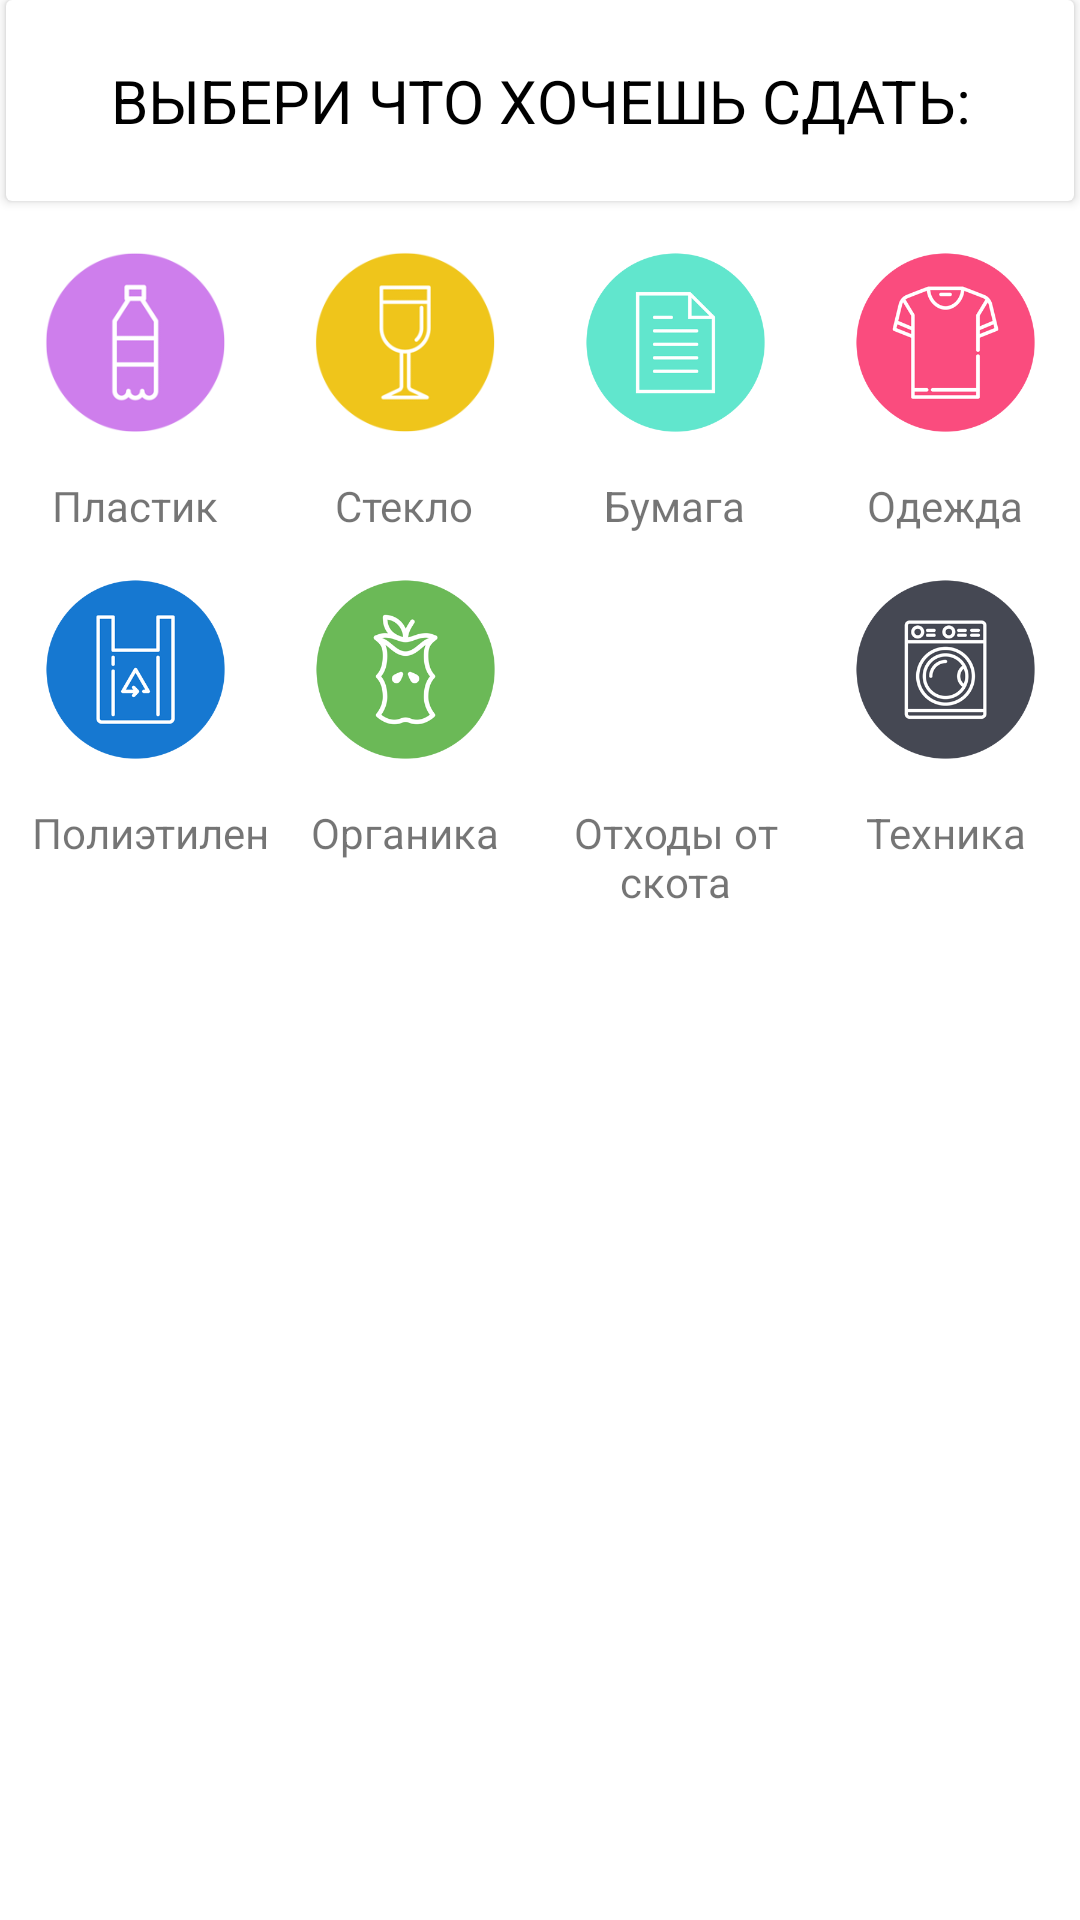

Named icons in this screenshot (1080 x 1920) and their centers, [x,y]:
bottle: [135,342]
clothes: [945,342]
glass: [405,342]
organic: [405,669]
paper: [675,342]
polietilen: [135,669]
tech: [945,669]
